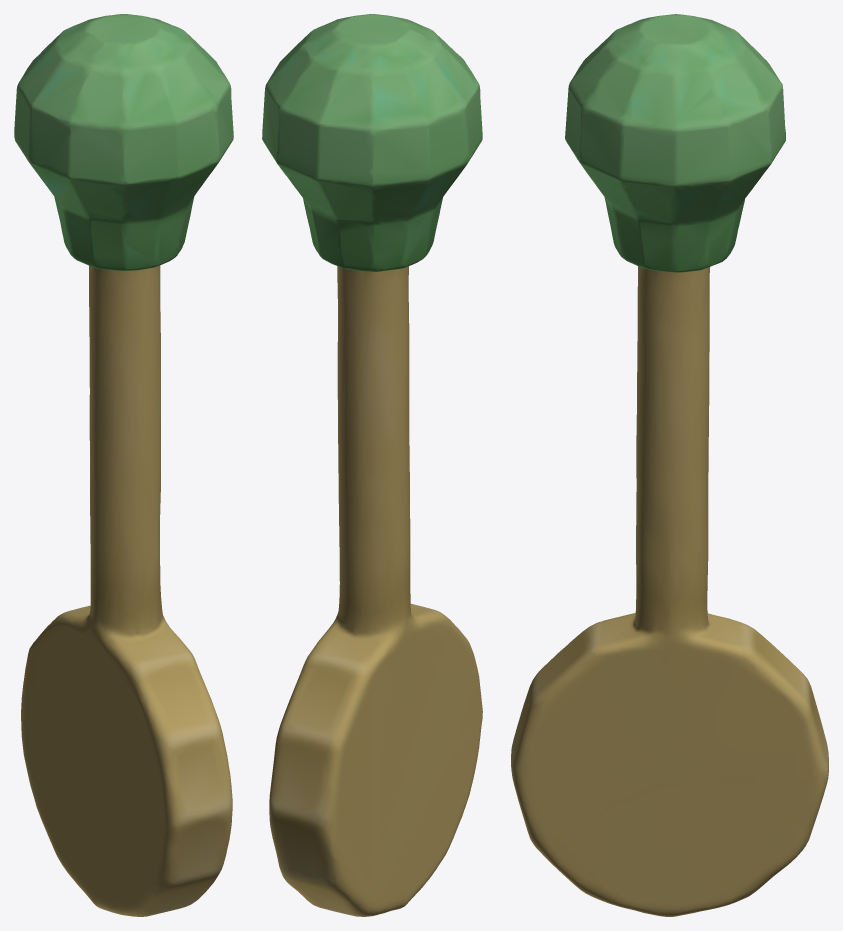
File: SM_leverGreen.fbx
3 views of the same model, side by side, from view 1: azimuth 30°, elevation 25°; view 2: azimuth 150°, elevation 25°; view 3: azimuth 270°, elevation 25° (orthographic).
Visible parts, largest first — view 1: lever_green; view 2: lever_green; view 3: lever_green.
Part boxes in pixels (<box>): lever_green: <box>14,14,233,916</box>; lever_green: <box>262,14,482,916</box>; lever_green: <box>511,14,828,916</box>.
Size of the model in its own units: 16.98 by 74.32 by 24.44.
